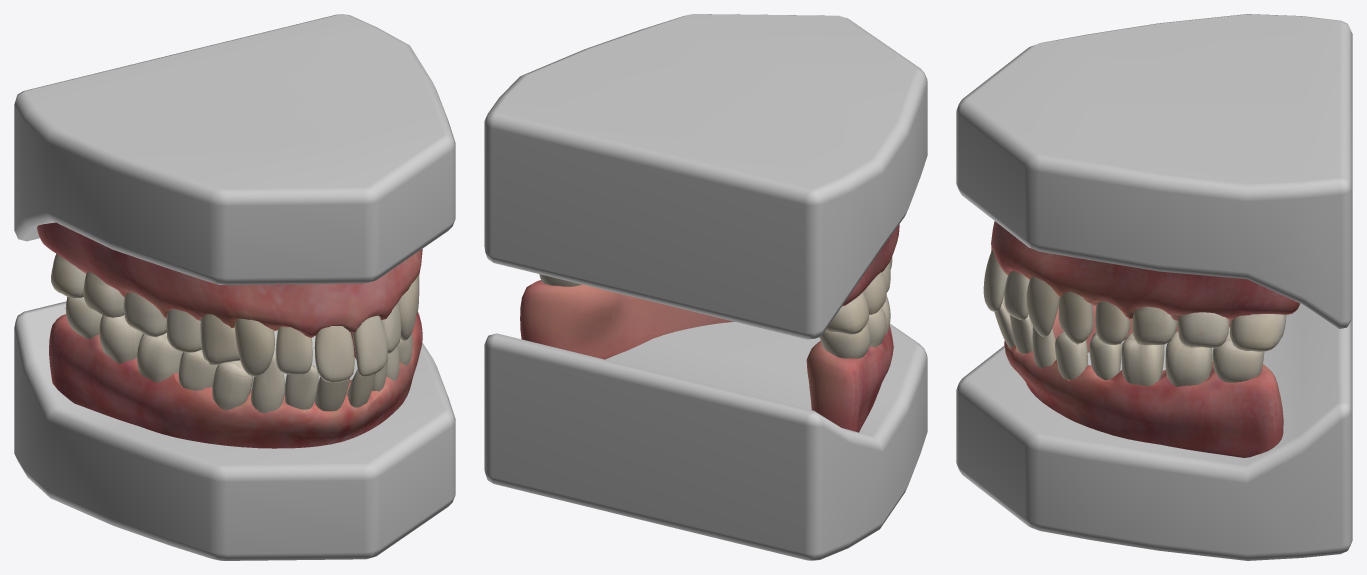
The model's file is TeethDenture.fbx.
3 views of the same model, side by side, from view 1: azimuth 30°, elevation 25°; view 2: azimuth 150°, elevation 25°; view 3: azimuth 270°, elevation 25° (orthographic).
Parts seen in each view (by area): view 1: TopCement, LowCement, LowerGumsT, UpperGumsT, Teeth07, Teeth13, Teeth20, Teeth33, Teeth17, Teeth18, Teeth10, Teeth25 (+12 smaller); view 2: TopCement, LowCement, LowerGumsT, Teeth03, Teeth23, UpperGumsT, Teeth01, Teeth25; view 3: TopCement, LowCement, LowerGumsT, UpperGumsT, Teeth02, Teeth31, Teeth29, Teeth22, Teeth19, Teeth04, Teeth21, Teeth32 (+7 smaller).
Boxes of the visible parts, bbox=[...] form: TopCement: bbox=[14, 14, 455, 284]; LowCement: bbox=[14, 301, 455, 560]; LowerGumsT: bbox=[49, 312, 422, 448]; UpperGumsT: bbox=[37, 222, 422, 337]; Teeth07: bbox=[314, 326, 354, 382]; Teeth13: bbox=[234, 318, 274, 376]; Teeth20: bbox=[137, 333, 182, 382]; Teeth33: bbox=[352, 315, 387, 376]; Teeth17: bbox=[212, 360, 253, 410]; Teeth18: bbox=[200, 314, 239, 365]; Teeth10: bbox=[275, 327, 312, 374]; Teeth25: bbox=[99, 315, 142, 363]; TopCement: bbox=[484, 14, 927, 339]; LowCement: bbox=[484, 322, 927, 560]; LowerGumsT: bbox=[520, 280, 893, 432]; Teeth03: bbox=[819, 323, 870, 358]; Teeth23: bbox=[825, 292, 868, 334]; UpperGumsT: bbox=[842, 224, 899, 306]; Teeth01: bbox=[863, 272, 886, 314]; Teeth25: bbox=[867, 307, 886, 347]; TopCement: bbox=[956, 14, 1352, 328]; LowCement: bbox=[956, 303, 1352, 560]; LowerGumsT: bbox=[1004, 305, 1283, 457]; UpperGumsT: bbox=[991, 221, 1300, 321]; Teeth02: bbox=[1165, 331, 1212, 386]; Teeth31: bbox=[1230, 314, 1286, 351]; Teeth29: bbox=[1121, 333, 1164, 386]; Teeth22: bbox=[1177, 312, 1229, 348]; Teeth19: bbox=[1212, 332, 1264, 382]; Teeth04: bbox=[1132, 307, 1177, 345]; Teeth21: bbox=[1058, 291, 1093, 344]; Teeth32: bbox=[1026, 276, 1059, 336].
Bounding box in the file's own units: 2.94 × 2.86 × 2.72.
